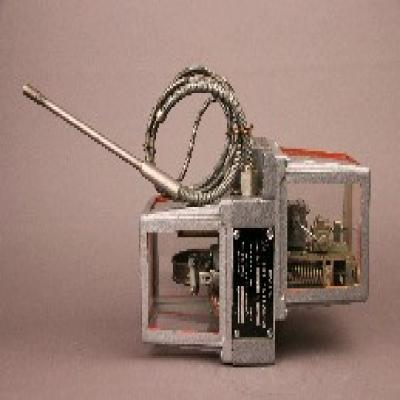technique: (34, 67, 369, 370)
